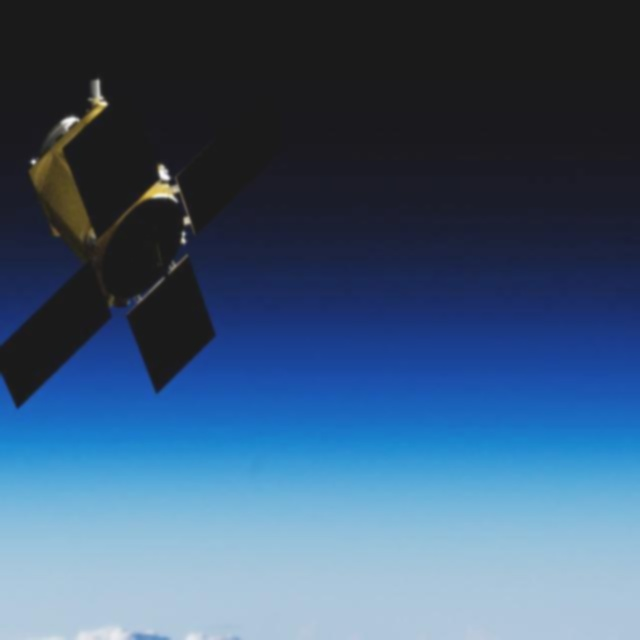satellite: (8, 37, 324, 433)
